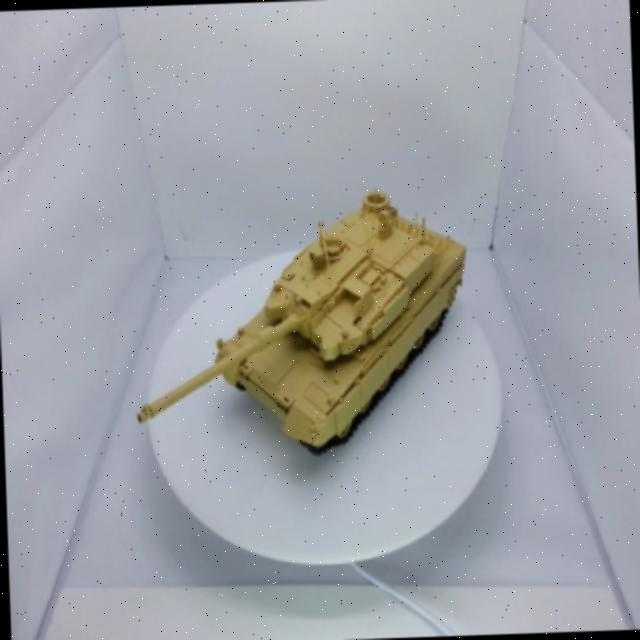korea tank: (112, 164, 490, 487)
